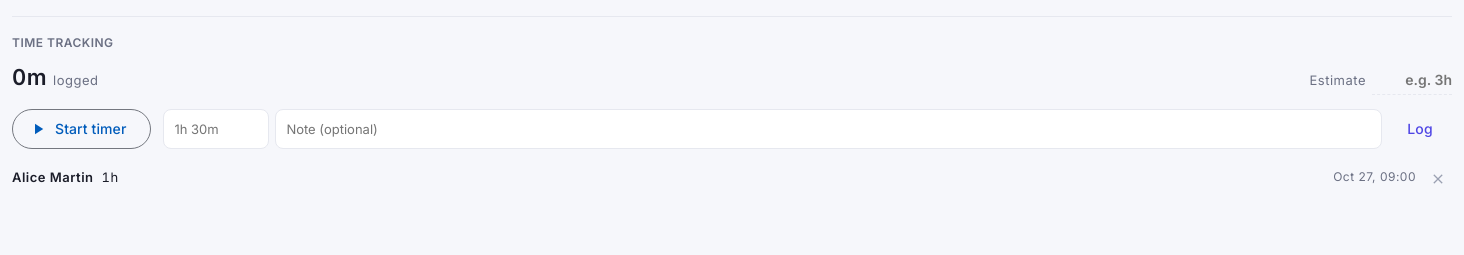
Test: TaskTimeComponent › deletes an entry and shows server errors
Click the button named "Delete entry".
click(1438, 177)  # box [1424,163,1452,191]
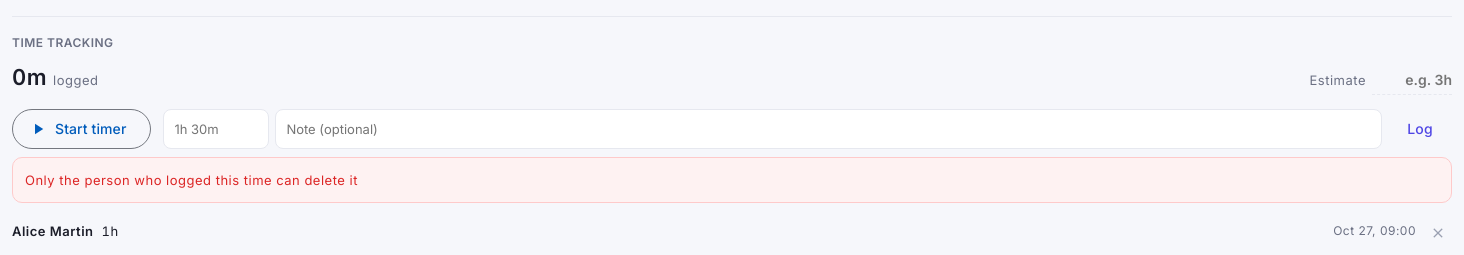
Expected: the text "Only the person who logged this time can delete it" is shown, [12,157,1452,203]
